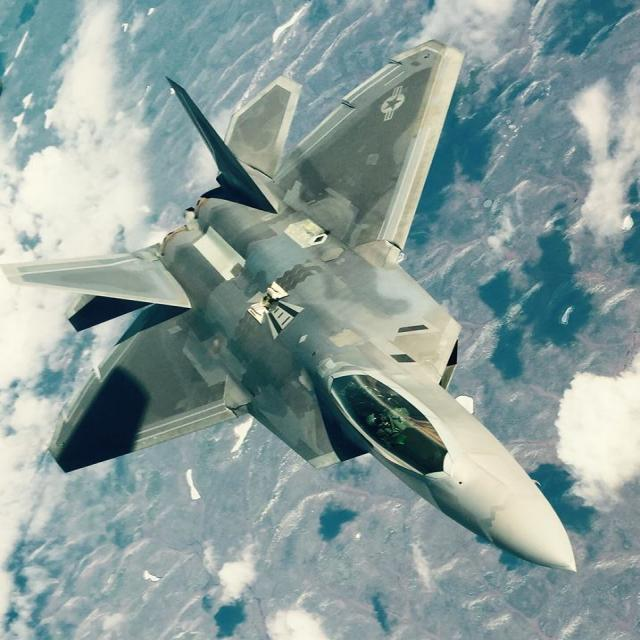F22: (1, 39, 578, 572)
